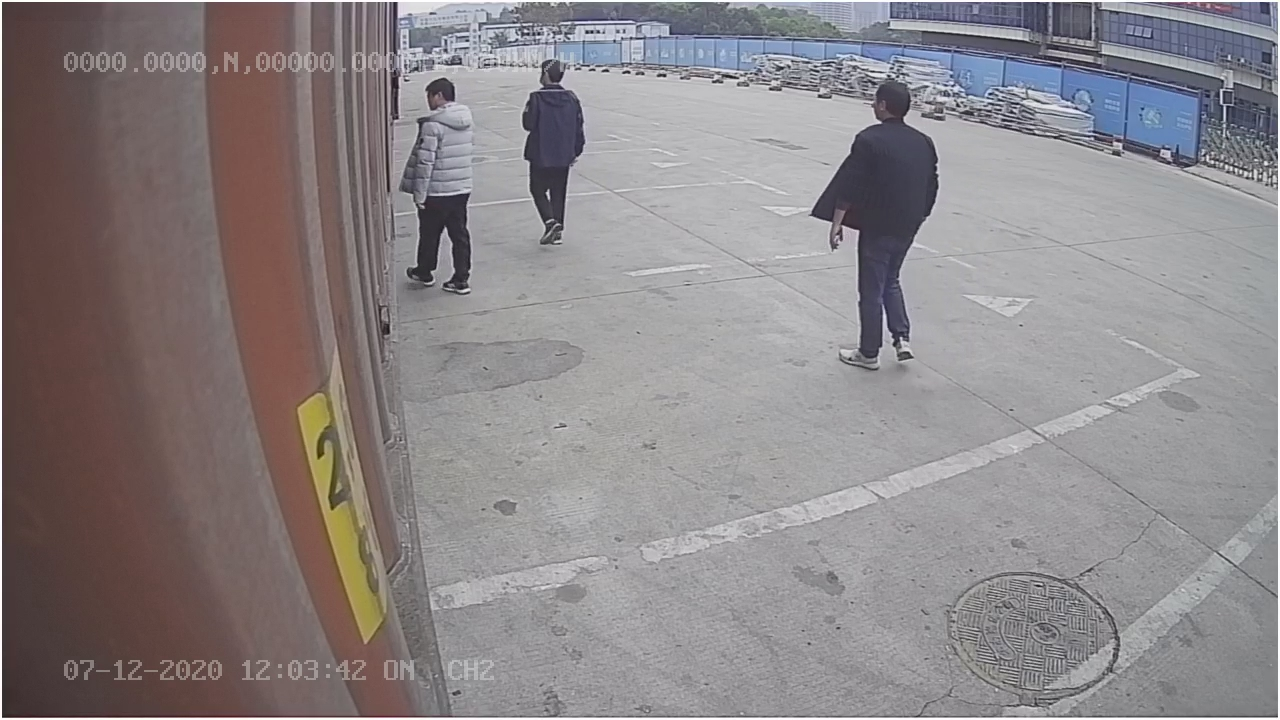person: (830, 72, 937, 374)
